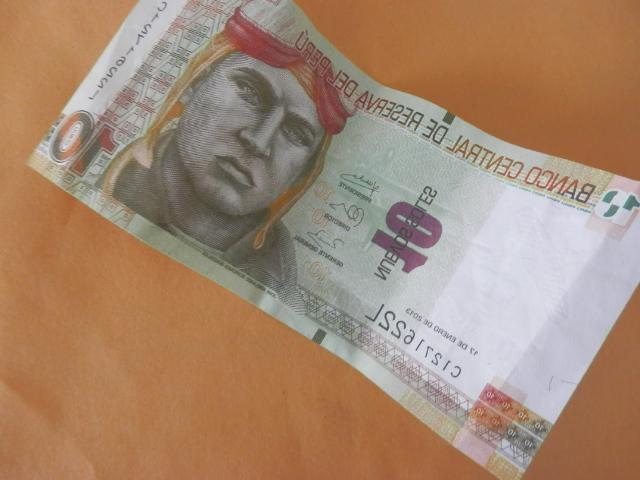B10: (26, 2, 640, 476)
